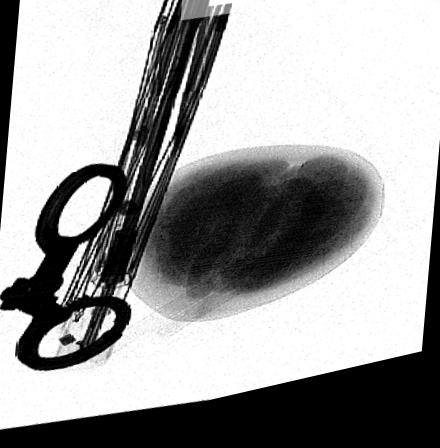HandCuffs: (0, 164, 130, 373)
